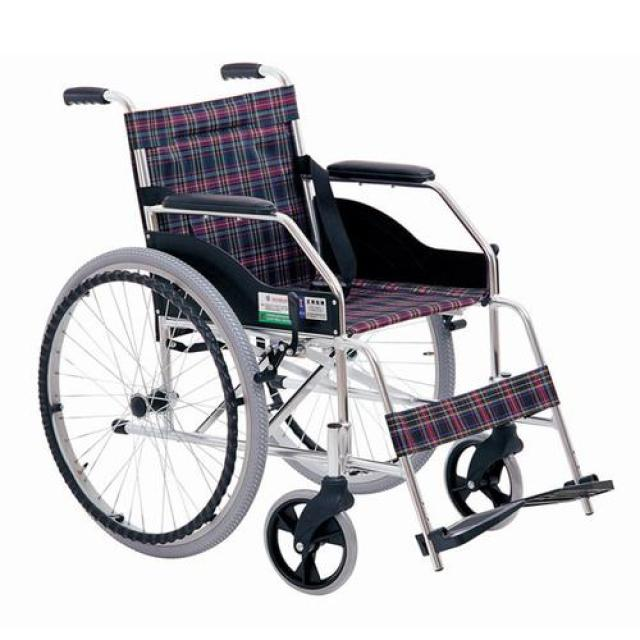wheelchairs: (17, 33, 628, 604)
